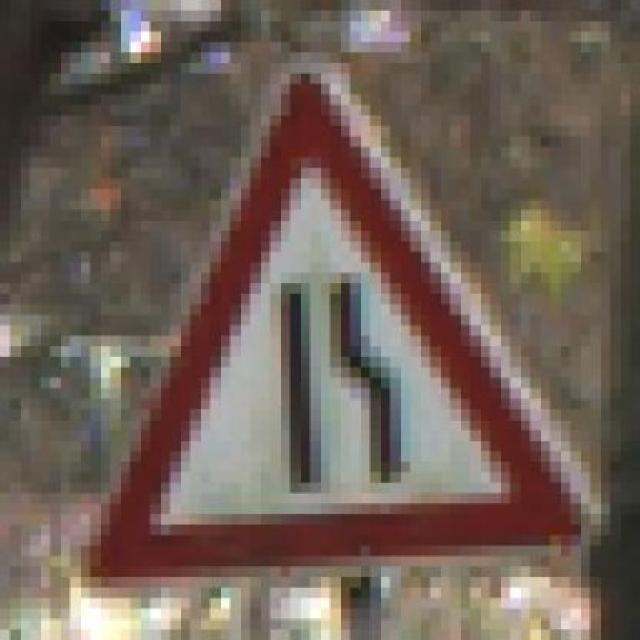-Road narrows on right: (79, 52, 610, 588)
